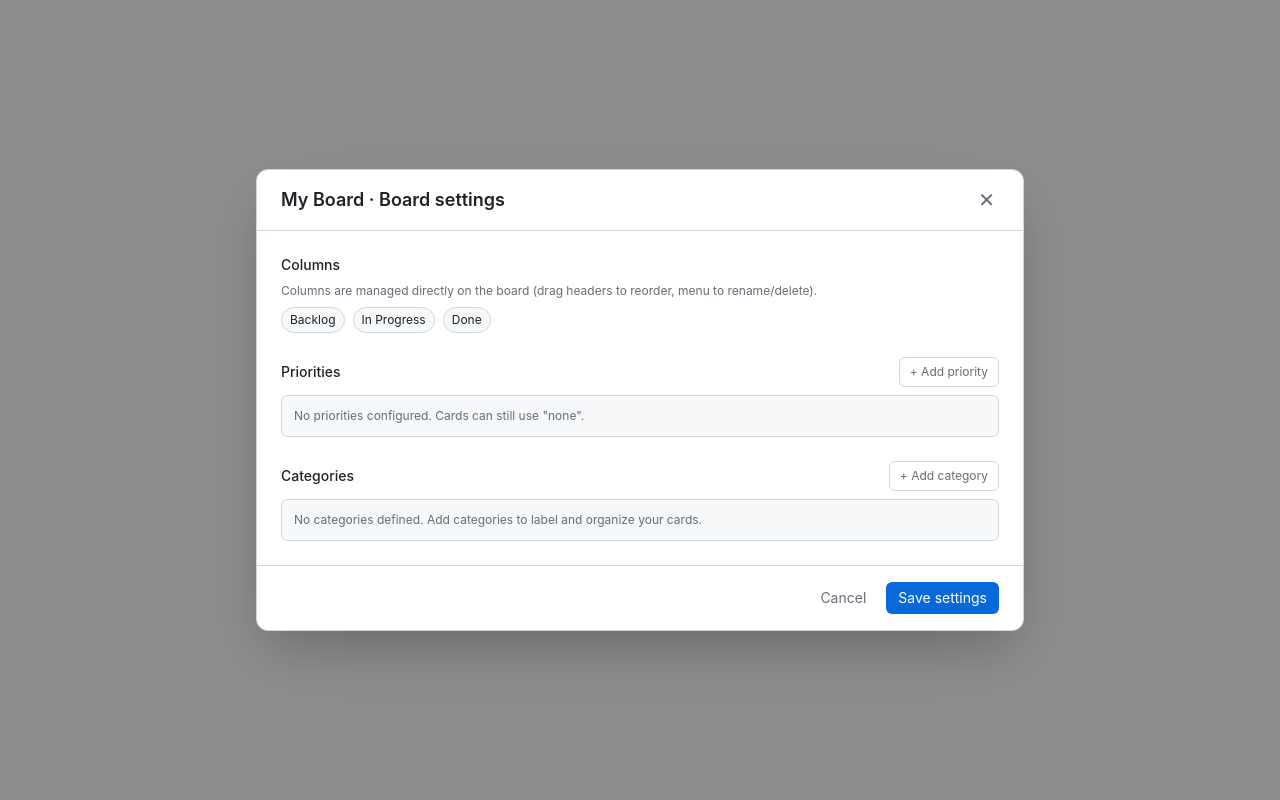
add priority › appends a row with defaults
Click the button "+ Add priority" at (949,372), box [899,357,999,387]
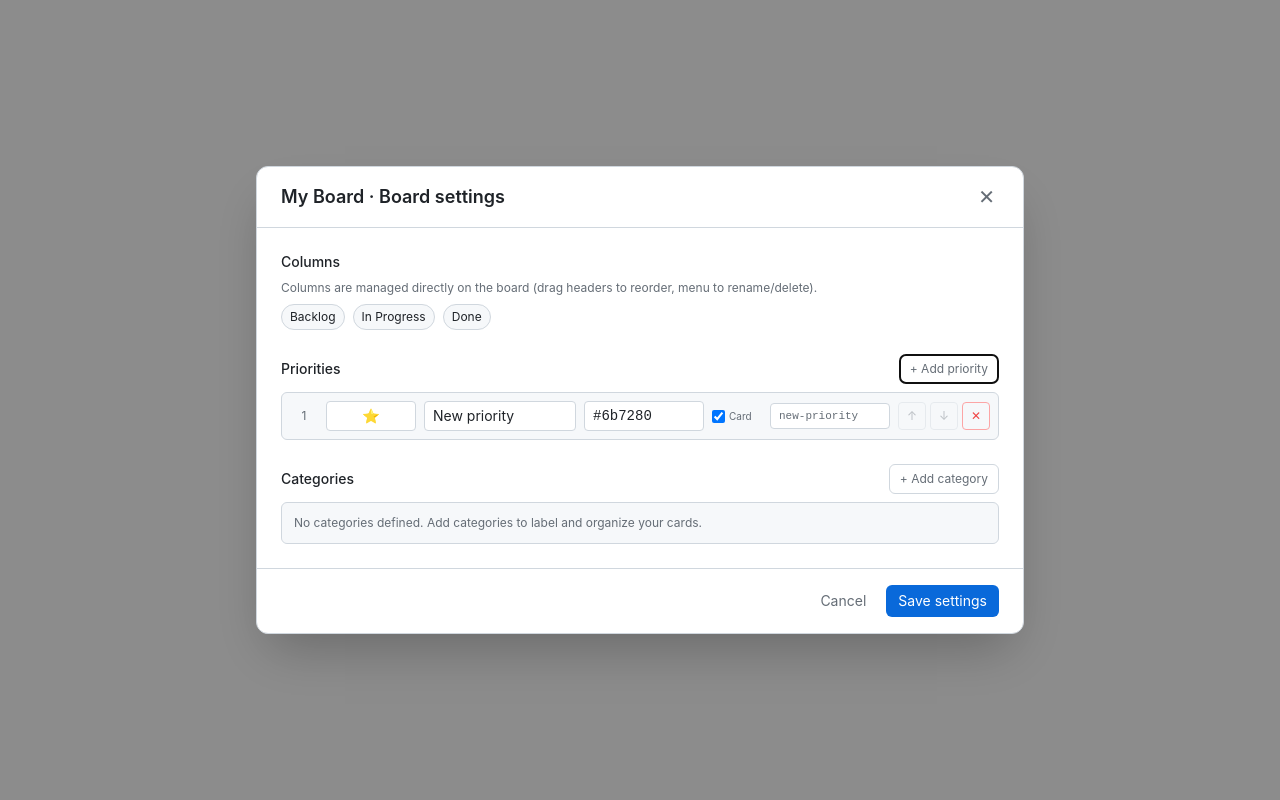
expect the 1st field with placeholder "Priority label" holds "New priority": met, box [424,401,576,431]
